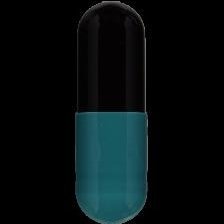66993-409: (0, 0, 224, 224)
